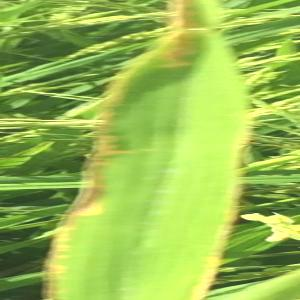2 BacterialBlight: (78, 10, 247, 298)
